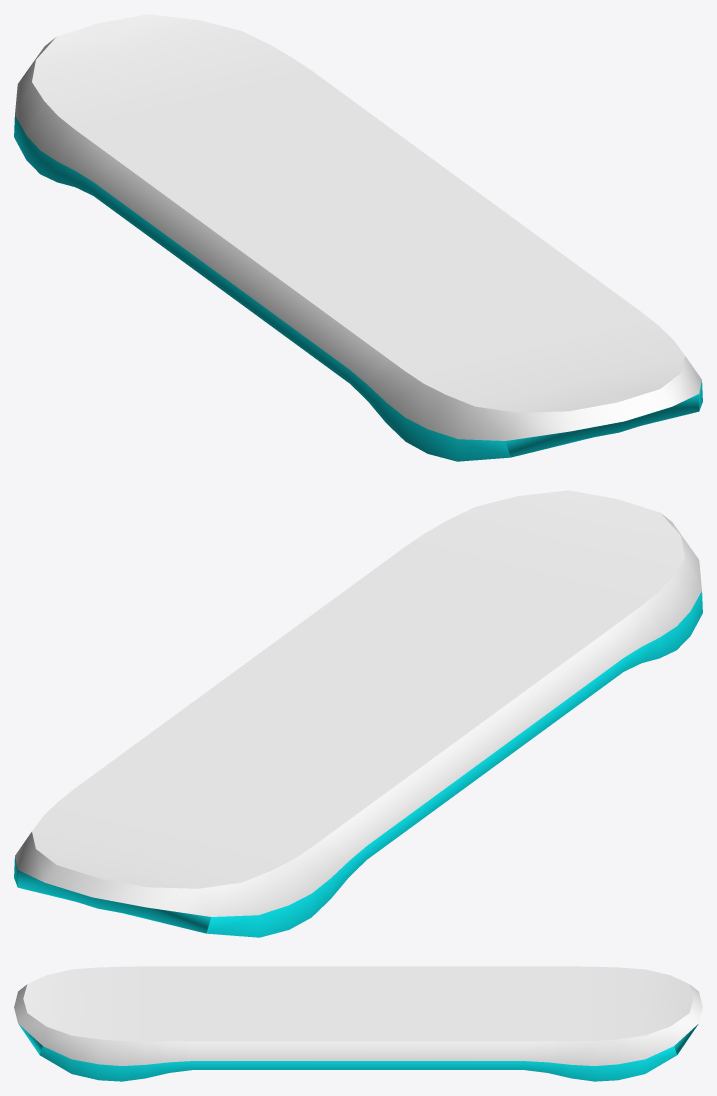
The model's file is Board.FBX.
3 renders of one model, top to bottom at view 1: azimuth 30°, elevation 25°; view 2: azimuth 150°, elevation 25°; view 3: azimuth 270°, elevation 25°, orthographic. The views are drawn at different scales.
Parts seen in each view (by area): view 1: Board; view 2: Board; view 3: Board.
Part boxes in pixels (x1,y1,x2,y2): Board: [14, 14, 702, 461]; Board: [14, 490, 702, 937]; Board: [14, 966, 702, 1081].
Bounding box in the file's own units: 325 × 70.37 × 1094.
